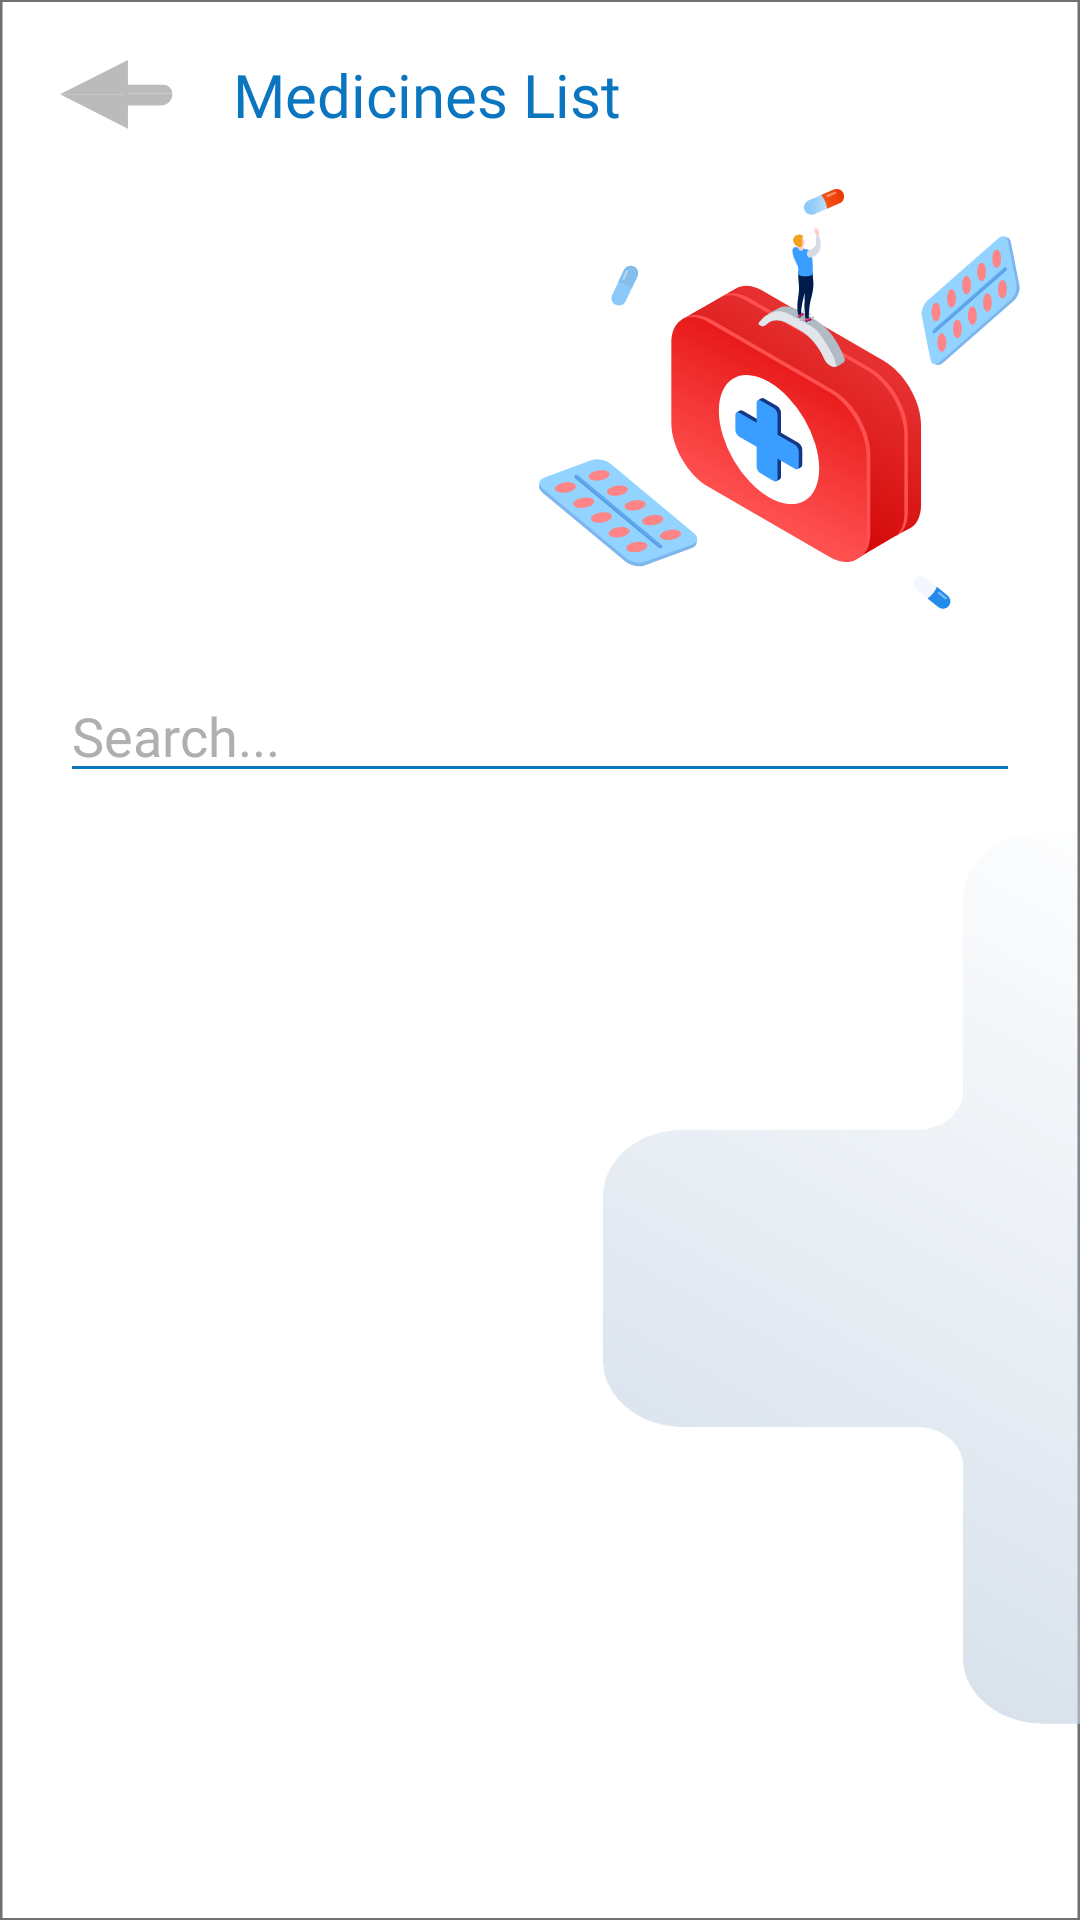

Screen size 1080 × 1920. Icon name, then its box in pixels as (x1, y1, x2, y2):
back: (60, 60, 172, 129)
